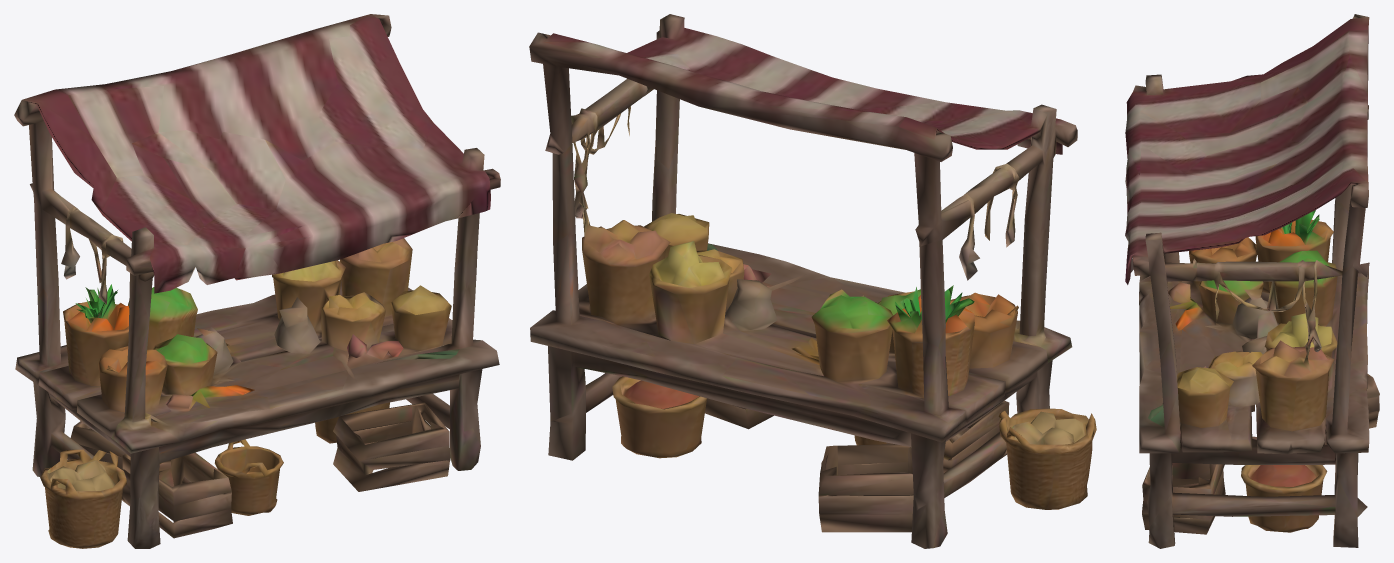
File: market_stall.glb
3 renders of one model, left to right at view 1: azimuth 30°, elevation 25°; view 2: azimuth 150°, elevation 25°; view 3: azimuth 270°, elevation 25°, orthographic. The views are drawn at different scales.
Parts seen in each view (by area): view 1: tripo_node_1f41402d-dda6-45c5-ba14-8d444d797d37; view 2: tripo_node_1f41402d-dda6-45c5-ba14-8d444d797d37; view 3: tripo_node_1f41402d-dda6-45c5-ba14-8d444d797d37.
Part boxes in pixels (bbox=[...]): tripo_node_1f41402d-dda6-45c5-ba14-8d444d797d37: bbox=[14, 14, 500, 548]; tripo_node_1f41402d-dda6-45c5-ba14-8d444d797d37: bbox=[529, 14, 1096, 548]; tripo_node_1f41402d-dda6-45c5-ba14-8d444d797d37: bbox=[1125, 14, 1379, 548].
Bounding box in the file's own units: 0.9759 × 0.8351 × 0.5235.
Materials: 1 (1 with a texture image).
